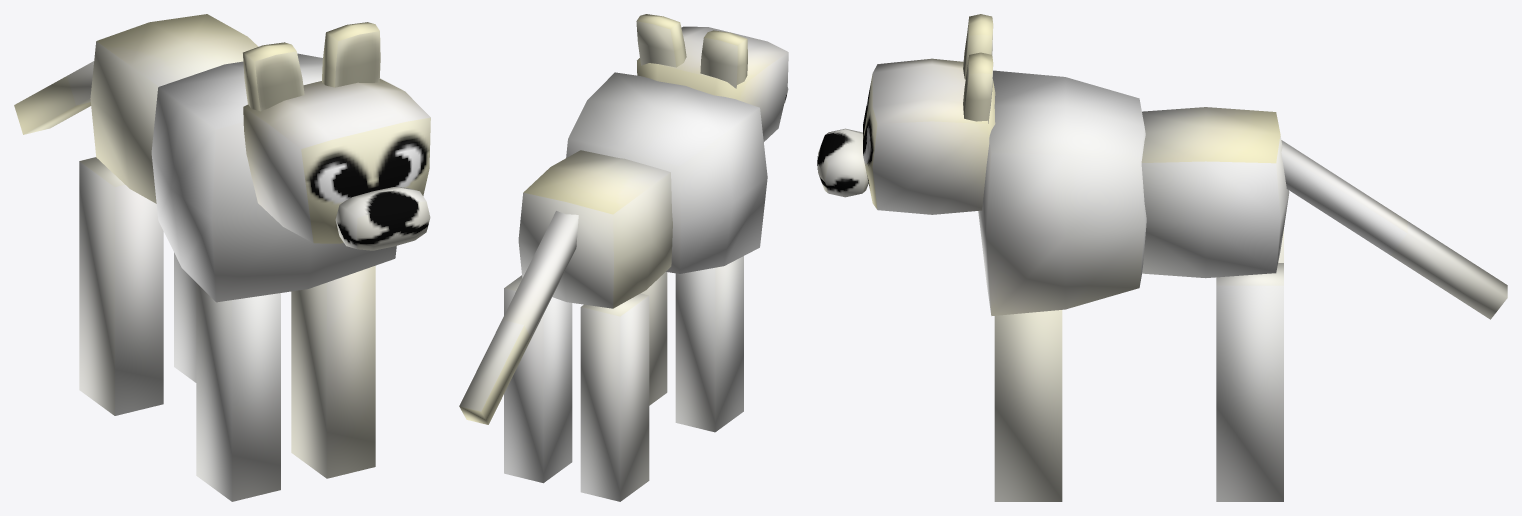
The model's file is shitdog.glb.
The picture shows the model from 3 angles, left to right: view 1: azimuth 30°, elevation 25°; view 2: azimuth 150°, elevation 25°; view 3: azimuth 270°, elevation 25°; orthographic projection. The views are drawn at different scales.
Parts seen in each view (by area): view 1: Cube, Cube.001, Cube.006, Cube.004, Cube.005, Cube.002, Cube.003, Cube.007; view 2: Cube.001, Cube.002, Cube.006, Cube.004, Cube, Cube.007, Cube.003, Cube.005; view 3: Cube.001, Cube.002, Cube, Cube.007, Cube.005, Cube.003.
Part boxes in pixels (<box>): Cube: <box>243,22,430,250</box>; Cube.001: <box>151,53,396,302</box>; Cube.006: <box>79,157,163,415</box>; Cube.004: <box>196,283,280,501</box>; Cube.005: <box>291,265,375,478</box>; Cube.002: <box>90,14,258,203</box>; Cube.003: <box>14,61,94,134</box>; Cube.007: <box>174,252,196,382</box>; Cube.001: <box>566,72,767,273</box>; Cube.002: <box>518,150,672,308</box>; Cube.006: <box>580,293,649,501</box>; Cube.004: <box>675,256,743,432</box>; Cube: <box>636,14,788,141</box>; Cube.007: <box>504,275,572,483</box>; Cube.003: <box>459,211,578,424</box>; Cube.005: <box>641,272,667,405</box>; Cube.001: <box>978,70,1146,315</box>; Cube.002: <box>1141,107,1289,278</box>; Cube: <box>817,14,995,214</box>; Cube.007: <box>1216,263,1283,501</box>; Cube.005: <box>994,310,1062,501</box>; Cube.003: <box>1281,140,1507,319</box>.
Bounding box in the file's own units: 0.5695 × 1.28 × 1.87.
Materials: 1 (1 with a texture image).
